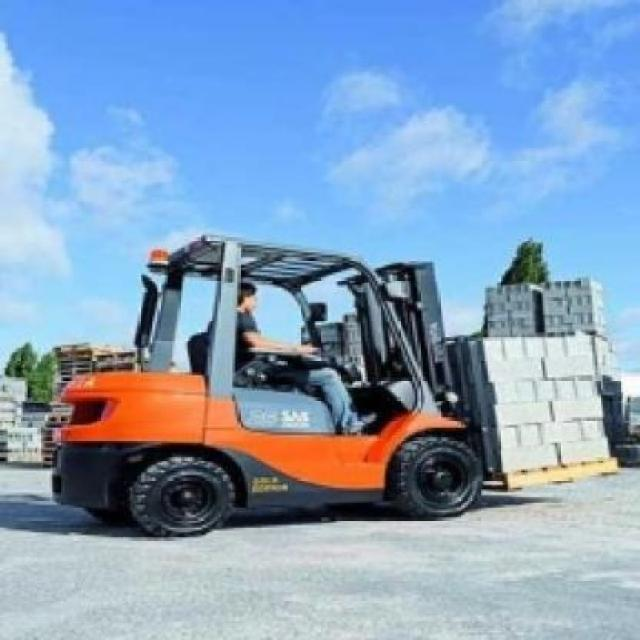forklift: (48, 232, 488, 537)
